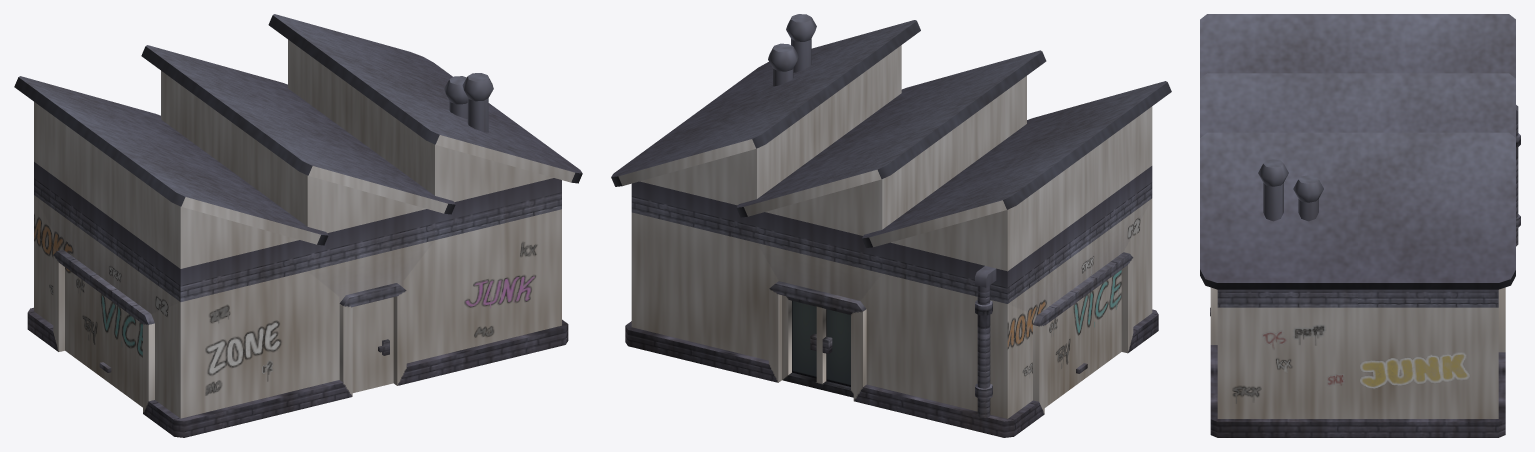
The model's file is building-k-white-scuffed.glb.
The picture shows the model from 3 angles, left to right: view 1: azimuth 30°, elevation 25°; view 2: azimuth 150°, elevation 25°; view 3: azimuth 270°, elevation 25°; orthographic projection. The views are drawn at different scales.
Visible parts, largest first — view 1: building-k; view 2: building-k; view 3: building-k.
Boxes of the visible parts, left/top/right/bottom form: building-k: left=14, top=14, right=582, bottom=437; building-k: left=611, top=14, right=1171, bottom=437; building-k: left=1200, top=14, right=1520, bottom=437.
Bounding box in the file's own units: 1.3 × 0.7727 × 0.9136.
Materials: 1 (1 with a texture image).
